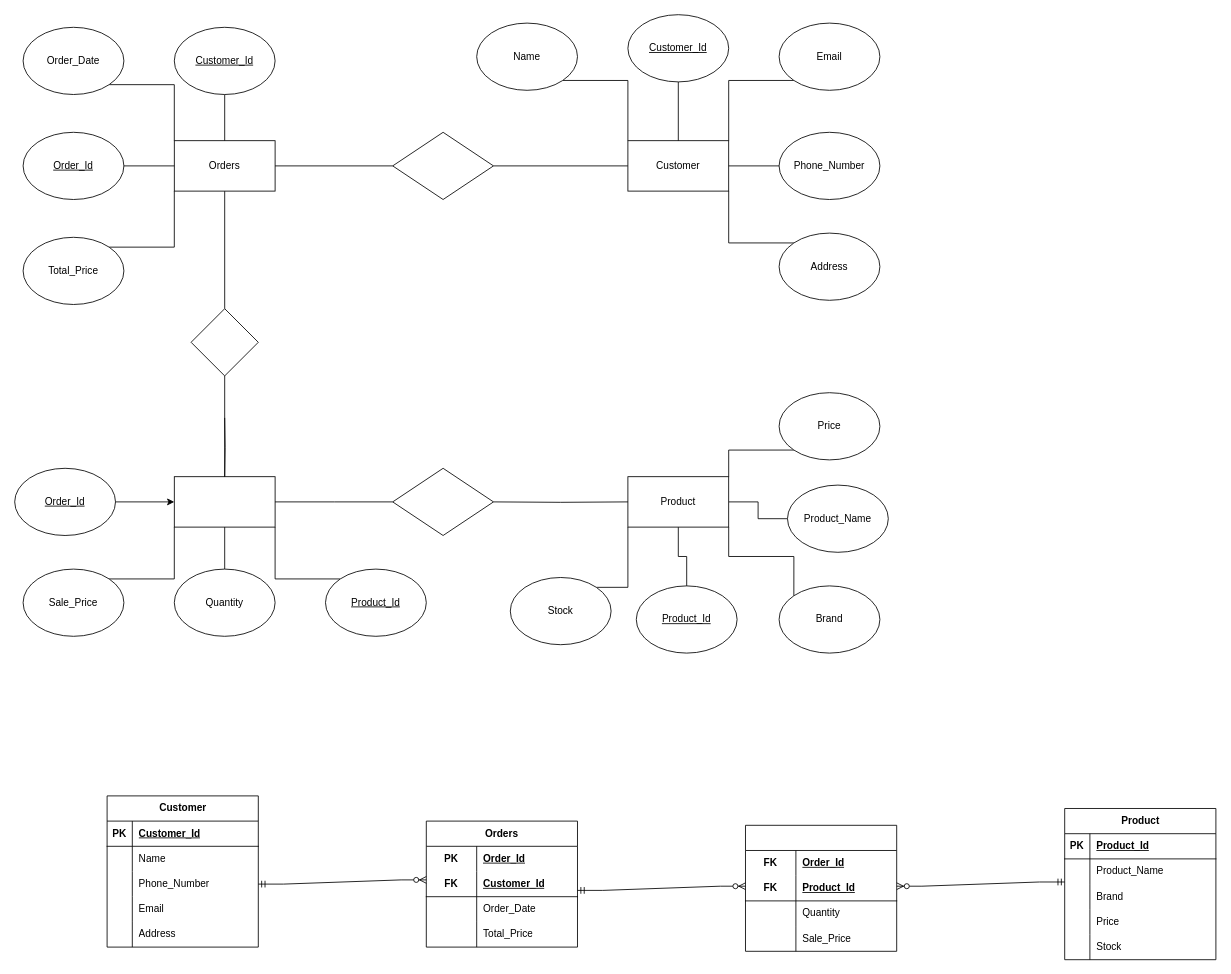
This 1231x974 diagram has some shape labels left out. Here are the shapes that lost their labels. From the top down, the box of each, then its label:
(392, 131, 494, 200): Order
(190, 308, 258, 376): Include
(173, 476, 275, 527): Order_Detail
(392, 467, 494, 536): Belongs
(745, 824, 897, 951): Orders_Detail
